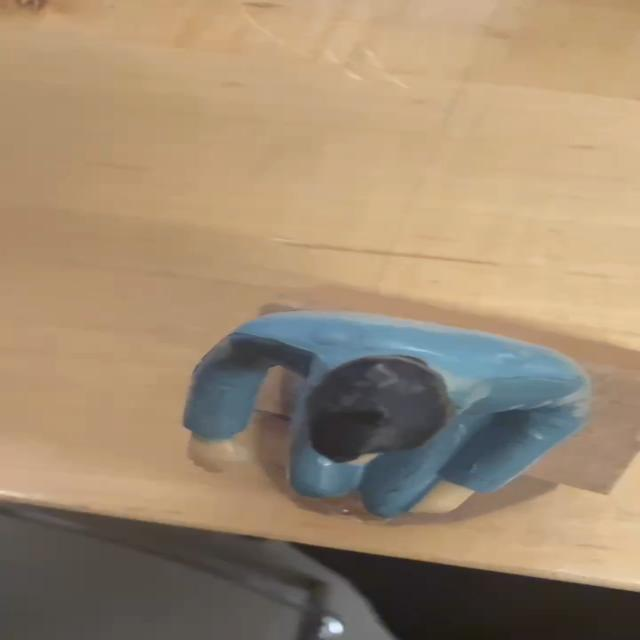Authorized: (162, 289, 601, 527)
